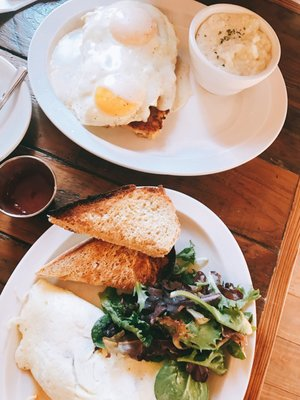pizza: (188, 3, 281, 97)
